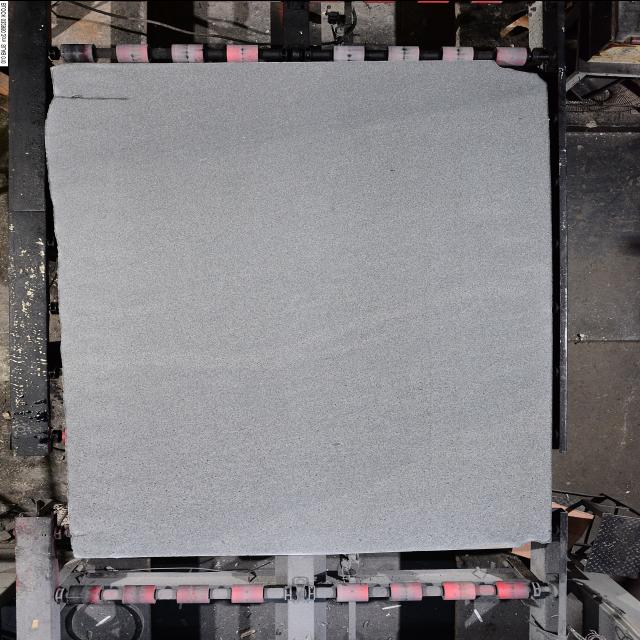chapa: (47, 60, 553, 556)
